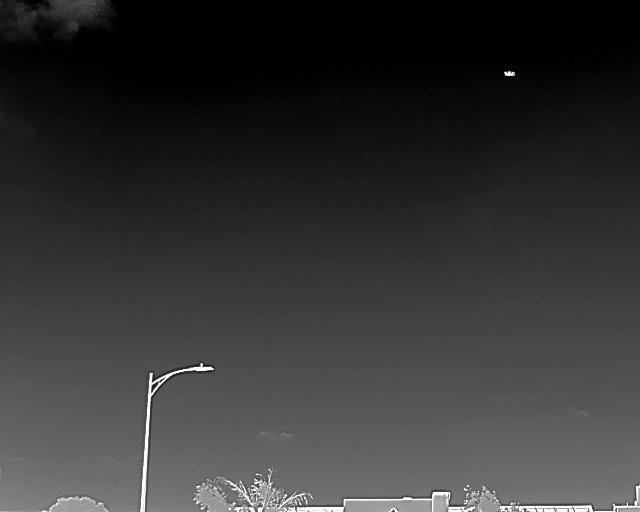fpv-drone: (503, 70, 516, 78)
